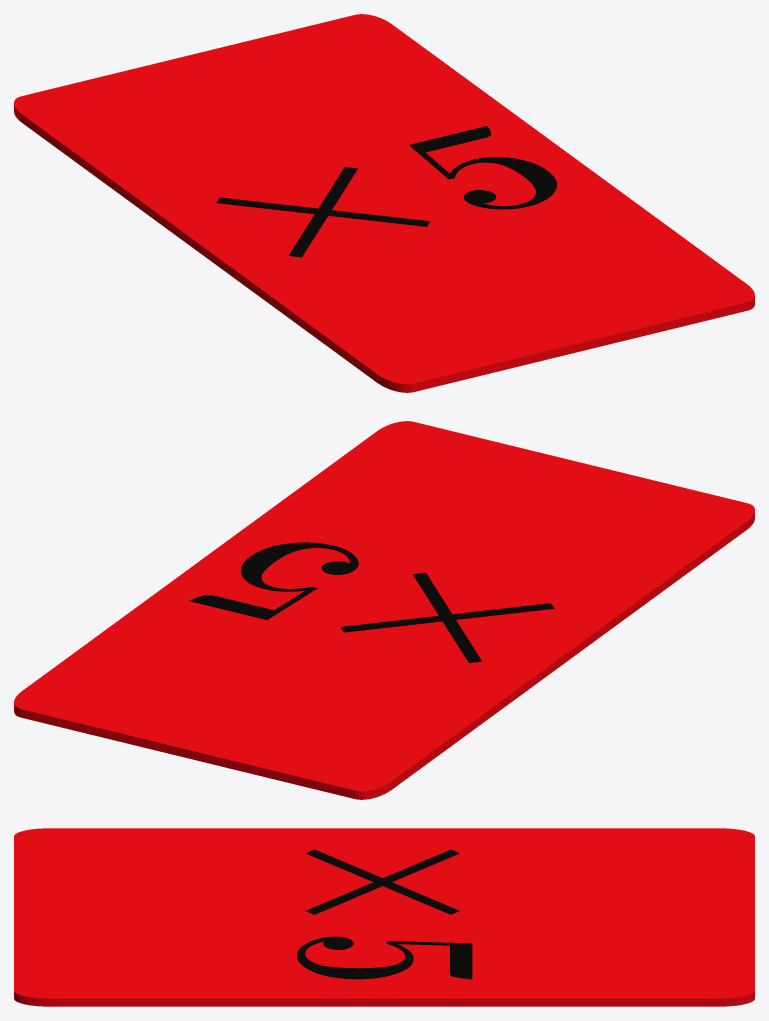
File: Card_Five.fbx
3 views of the same model, one above another, from view 1: azimuth 30°, elevation 25°; view 2: azimuth 150°, elevation 25°; view 3: azimuth 270°, elevation 25° (orthographic). The views are drawn at different scales.
Parts seen in each view (by area): view 1: Cube, Text.001; view 2: Cube, Text.001; view 3: Cube, Text.001.
Boxes of the visible parts, box(x1,y1,x2,y2) form: Cube: box(14, 14, 754, 392); Text.001: box(216, 126, 556, 257); Cube: box(14, 421, 754, 799); Text.001: box(189, 542, 554, 662); Cube: box(14, 828, 754, 1006); Text.001: box(297, 849, 472, 979).
Bounding box in the file's own units: 109 × 4 × 200.
